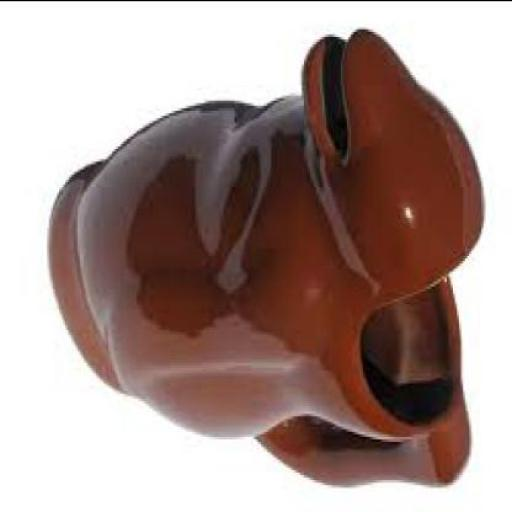glass: (49, 33, 485, 489)
